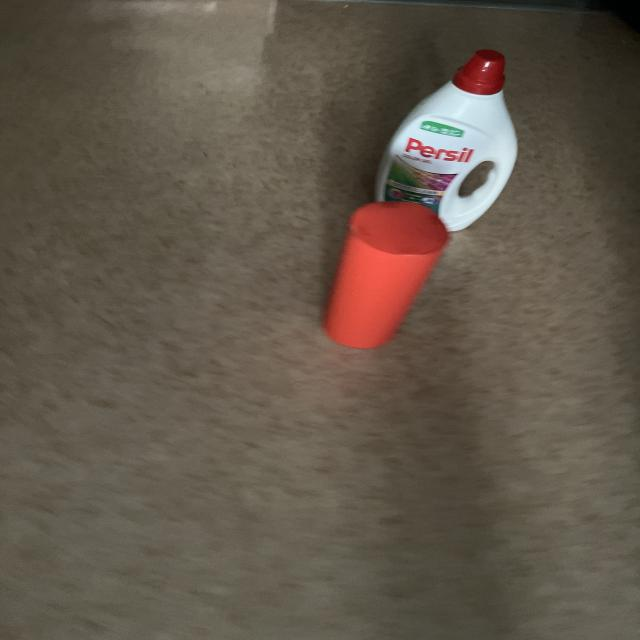przeszkoda: (324, 202, 449, 348)
